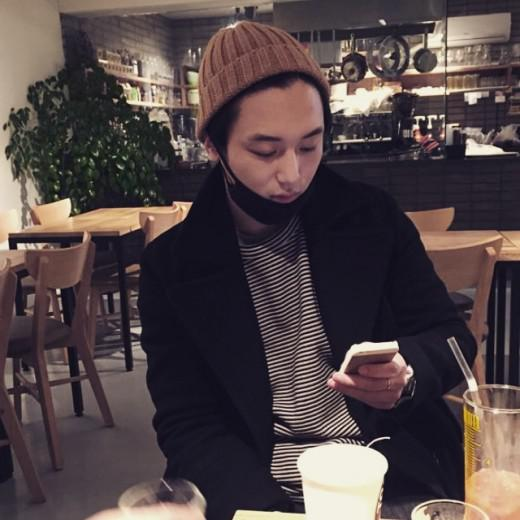WRONG: (225, 118, 333, 226)
